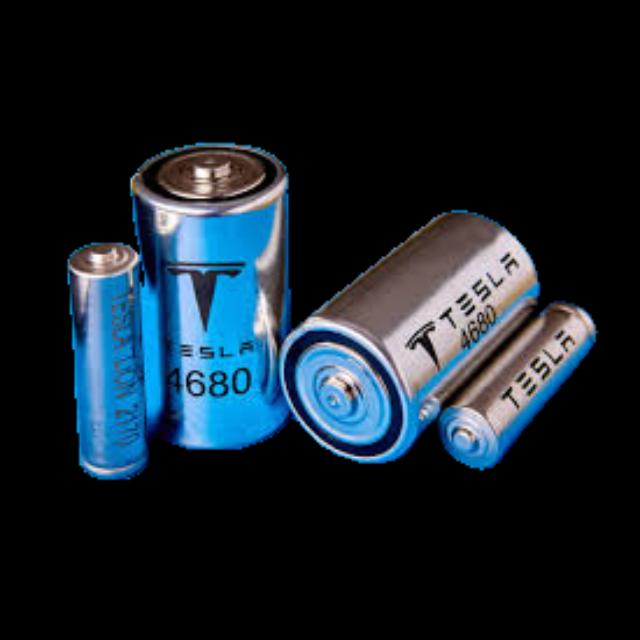Battery: (284, 214, 540, 462), (130, 142, 291, 449), (442, 305, 598, 469), (67, 242, 149, 479)
